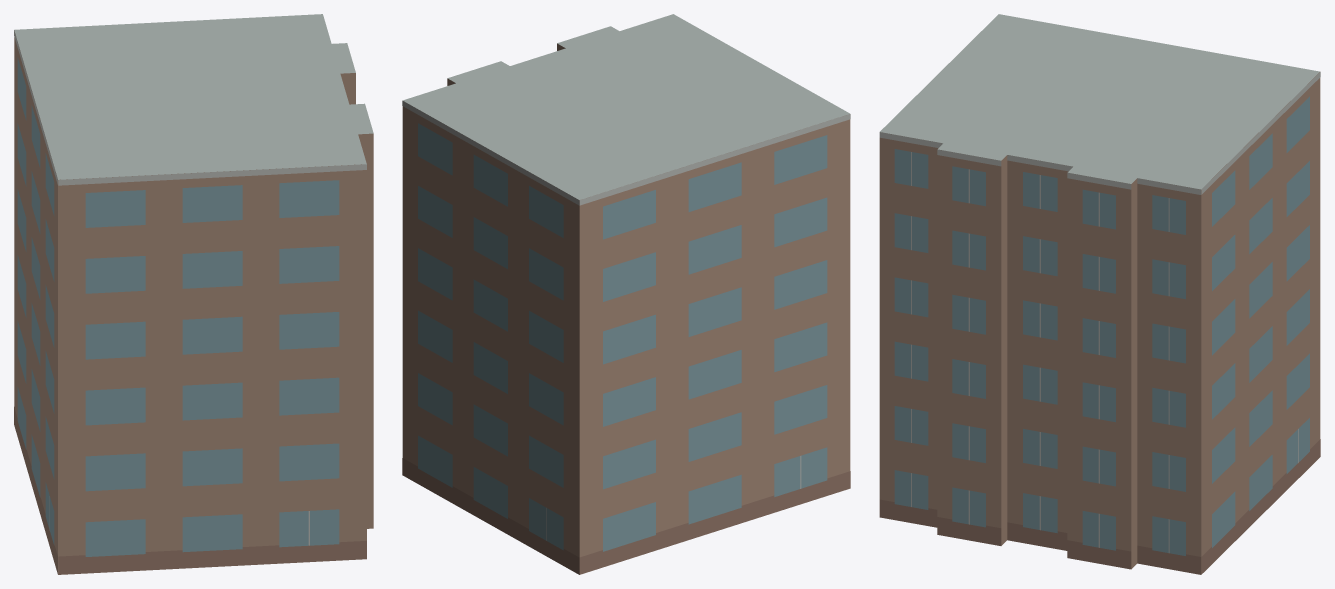
File: survey-upis-32611678.glb
3 renders of one model, left to right at view 1: azimuth 30°, elevation 25°; view 2: azimuth 150°, elevation 25°; view 3: azimuth 270°, elevation 25°, orthographic. The views are drawn at different scales.
Parts seen in each view (by area): view 1: survey-upis-32611678.tmp; view 2: survey-upis-32611678.tmp; view 3: survey-upis-32611678.tmp.
Part boxes in pixels (x1,y1,x2,y2): survey-upis-32611678.tmp: (14, 14, 373, 574); survey-upis-32611678.tmp: (402, 14, 850, 574); survey-upis-32611678.tmp: (879, 14, 1320, 574).
Bounding box in the file's own units: 16.22 × 16.6 × 17.21.
